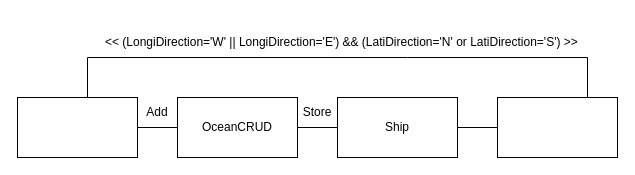
Some shapes in this 635 by 175 pixel diagram are drawn without their labels. Here are the shapes that lost their labels. From the top down, the centre of each, then its label:
At (77,127): "OceanUI".
At (557,127): "Angle".
